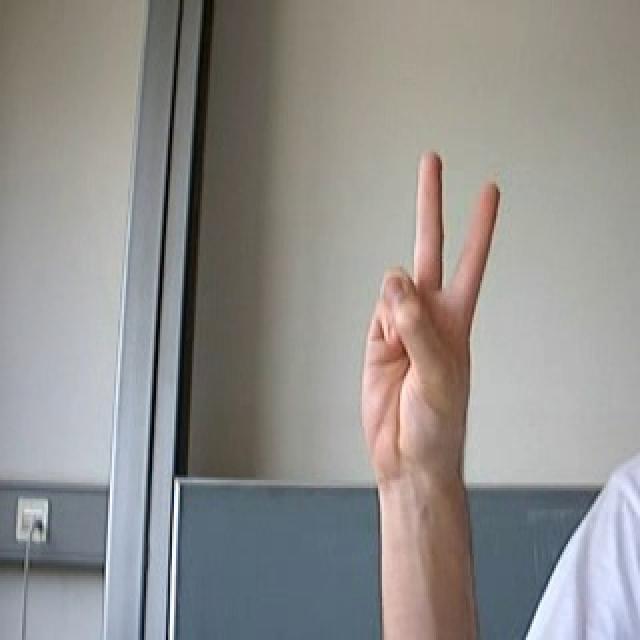V: (351, 136, 508, 491)
